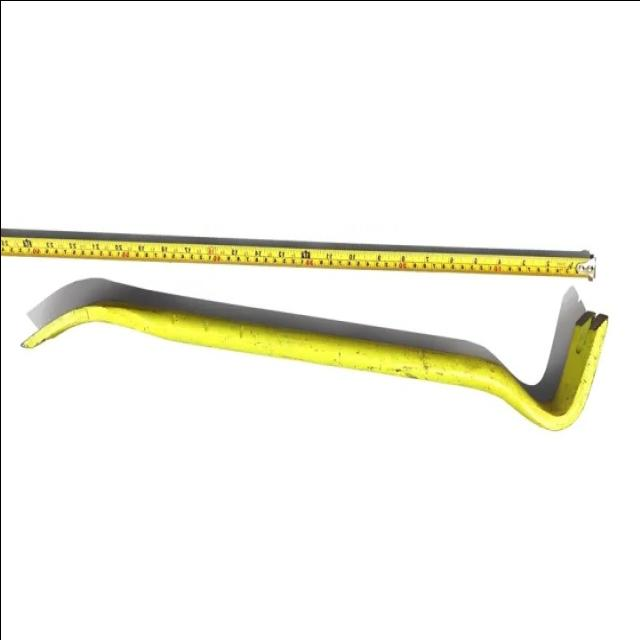Linggis: (25, 293, 611, 438)
